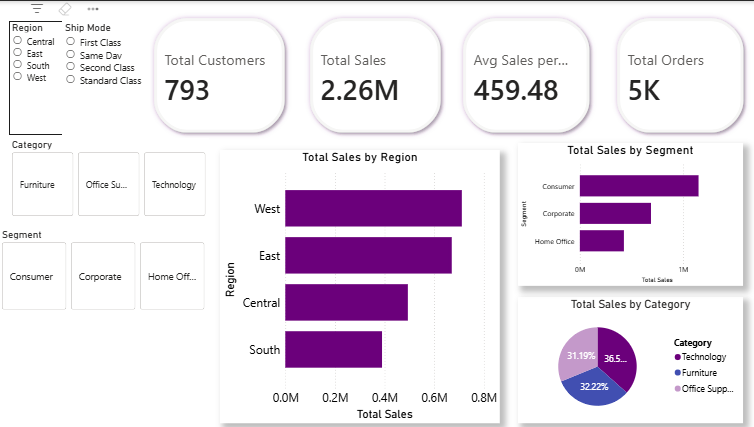

What the dashboard file says about the page in this screenshot:
{"tool":"powerbi","page":{"name":"Page 1","canvas":[1280,720],"ordinal":0},"visuals":[{"type":"cardVisual","fields":{"Data":["Superstore_Sales_Dataset.Total Orders"]},"box":[1009.6,0,270.4,250.3],"z":0},{"type":"cardVisual","fields":{"Data":["Superstore_Sales_Dataset.Total Customers"]},"box":[231.8,0,277.2,250.3],"z":1000},{"type":"cardVisual","fields":{"Data":["Superstore_Sales_Dataset.Total Sales"]},"box":[493.9,0,277.2,250.3],"z":2000},{"type":"cardVisual","fields":{"Data":["Superstore_Sales_Dataset.Avg Sales per Order"]},"box":[750.9,0,270.4,250.3],"z":3000},{"type":"clusteredBarChart","fields":{"Category":["Superstore_Sales_Dataset.Region"],"Y":["Superstore_Sales_Dataset.Total Sales"]},"box":[371.2,250.3,470.3,458.6],"z":4000},{"type":"pieChart","fields":{"Category":["Superstore_Sales_Dataset.Category"],"Y":["Superstore_Sales_Dataset.Total Sales"]},"box":[871.8,497.2,378,211.7],"z":5000},{"type":"barChart","fields":{"Category":["Superstore_Sales_Dataset.Segment"],"Y":["Superstore_Sales_Dataset.Total Sales"]},"box":[871.8,238.5,378,240.2],"z":6000},{"type":"listSlicer","fields":{"Values":["Superstore_Sales_Dataset.Region"]},"box":[16.8,33.6,162.9,191.5],"z":7000},{"type":"advancedSlicerVisual","fields":{"Values":["Superstore_Sales_Dataset.Category"]},"box":[16.8,230.1,336,136.1],"z":7001},{"type":"advancedSlicerVisual","fields":{"Values":["Superstore_Sales_Dataset.Segment"]},"box":[0,381.3,352.8,142.8],"z":7002},{"type":"listSlicer","fields":{"Values":["Superstore_Sales_Dataset.Ship Mode"]},"box":[105.8,33.6,147.8,196.5],"z":7003}]}

Visuals, with their boxes in screenshot pixels (x1, y1, x2, y2), scaled from the page's 1280x720 canvas onto the 754x427 screenshot:
cardVisual - Superstore_Sales_Dataset.Total Orders: 595:0:753:148
cardVisual - Superstore_Sales_Dataset.Total Customers: 137:0:300:148
cardVisual - Superstore_Sales_Dataset.Total Sales: 291:0:454:148
cardVisual - Superstore_Sales_Dataset.Avg Sales per Order: 442:0:602:148
clusteredBarChart - Superstore_Sales_Dataset.Region x Superstore_Sales_Dataset.Total Sales: 219:148:496:420
pieChart - Superstore_Sales_Dataset.Category x Superstore_Sales_Dataset.Total Sales: 514:295:736:420
barChart - Superstore_Sales_Dataset.Segment x Superstore_Sales_Dataset.Total Sales: 514:141:736:284
listSlicer - Superstore_Sales_Dataset.Region: 10:20:106:133
advancedSlicerVisual - Superstore_Sales_Dataset.Category: 10:136:208:217
advancedSlicerVisual - Superstore_Sales_Dataset.Segment: 0:226:208:311
listSlicer - Superstore_Sales_Dataset.Ship Mode: 62:20:149:136
